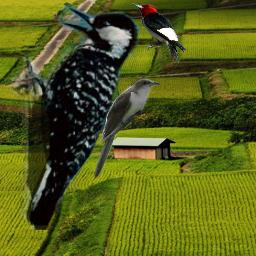Cuckoo: (91, 77, 161, 181)
Woodpecker: (10, 3, 144, 230), (131, 3, 187, 65)
